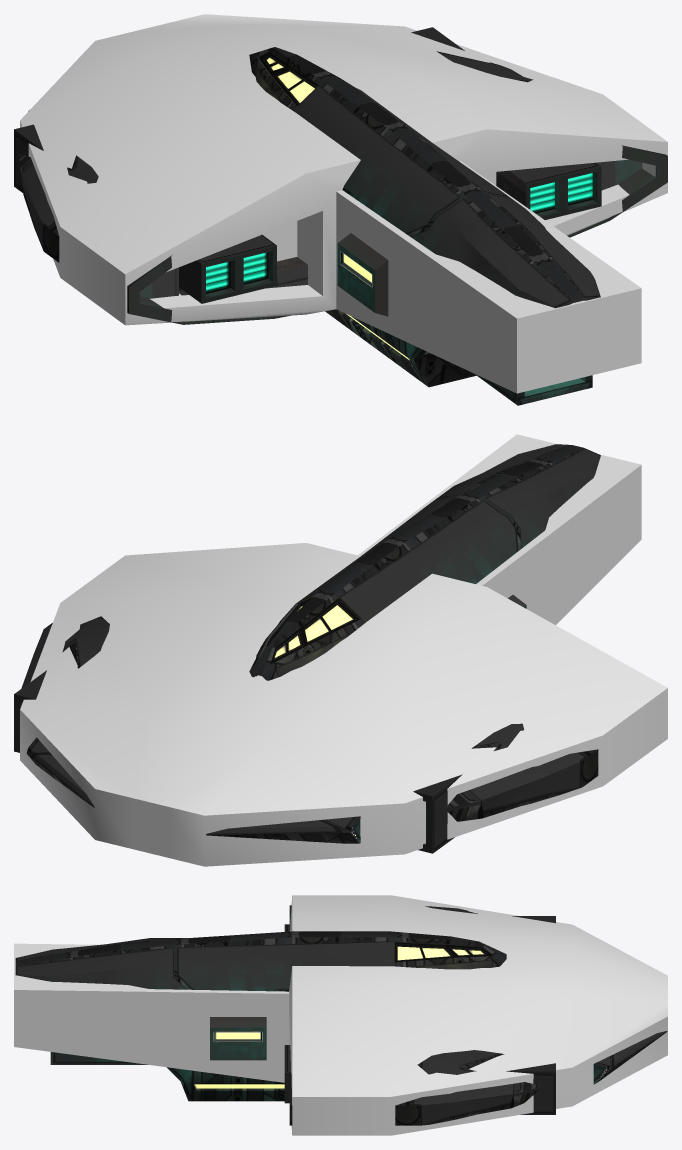
Rendered from eROS.fbx.
3 views of the same model, one above another, from view 1: azimuth 30°, elevation 25°; view 2: azimuth 150°, elevation 25°; view 3: azimuth 270°, elevation 25° (orthographic). The views are drawn at different scales.
Visible parts, largest first — view 1: Cube_1, Cube; view 2: Cube_1, Cube; view 3: Cube_1, Cube.
Part boxes in pixels (x1,y1,x2,y2): Cube_1: (20,14,667,393); Cube: (14,27,667,405); Cube_1: (20,434,667,866); Cube: (14,444,600,853); Cube_1: (14,895,667,1135); Cube: (15,905,667,1125).
Bounding box in the file's own units: 5624 × 1995 × 7709.
1 material, 1 textured.
